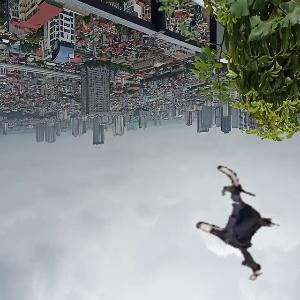drone: (182, 167, 298, 283)
